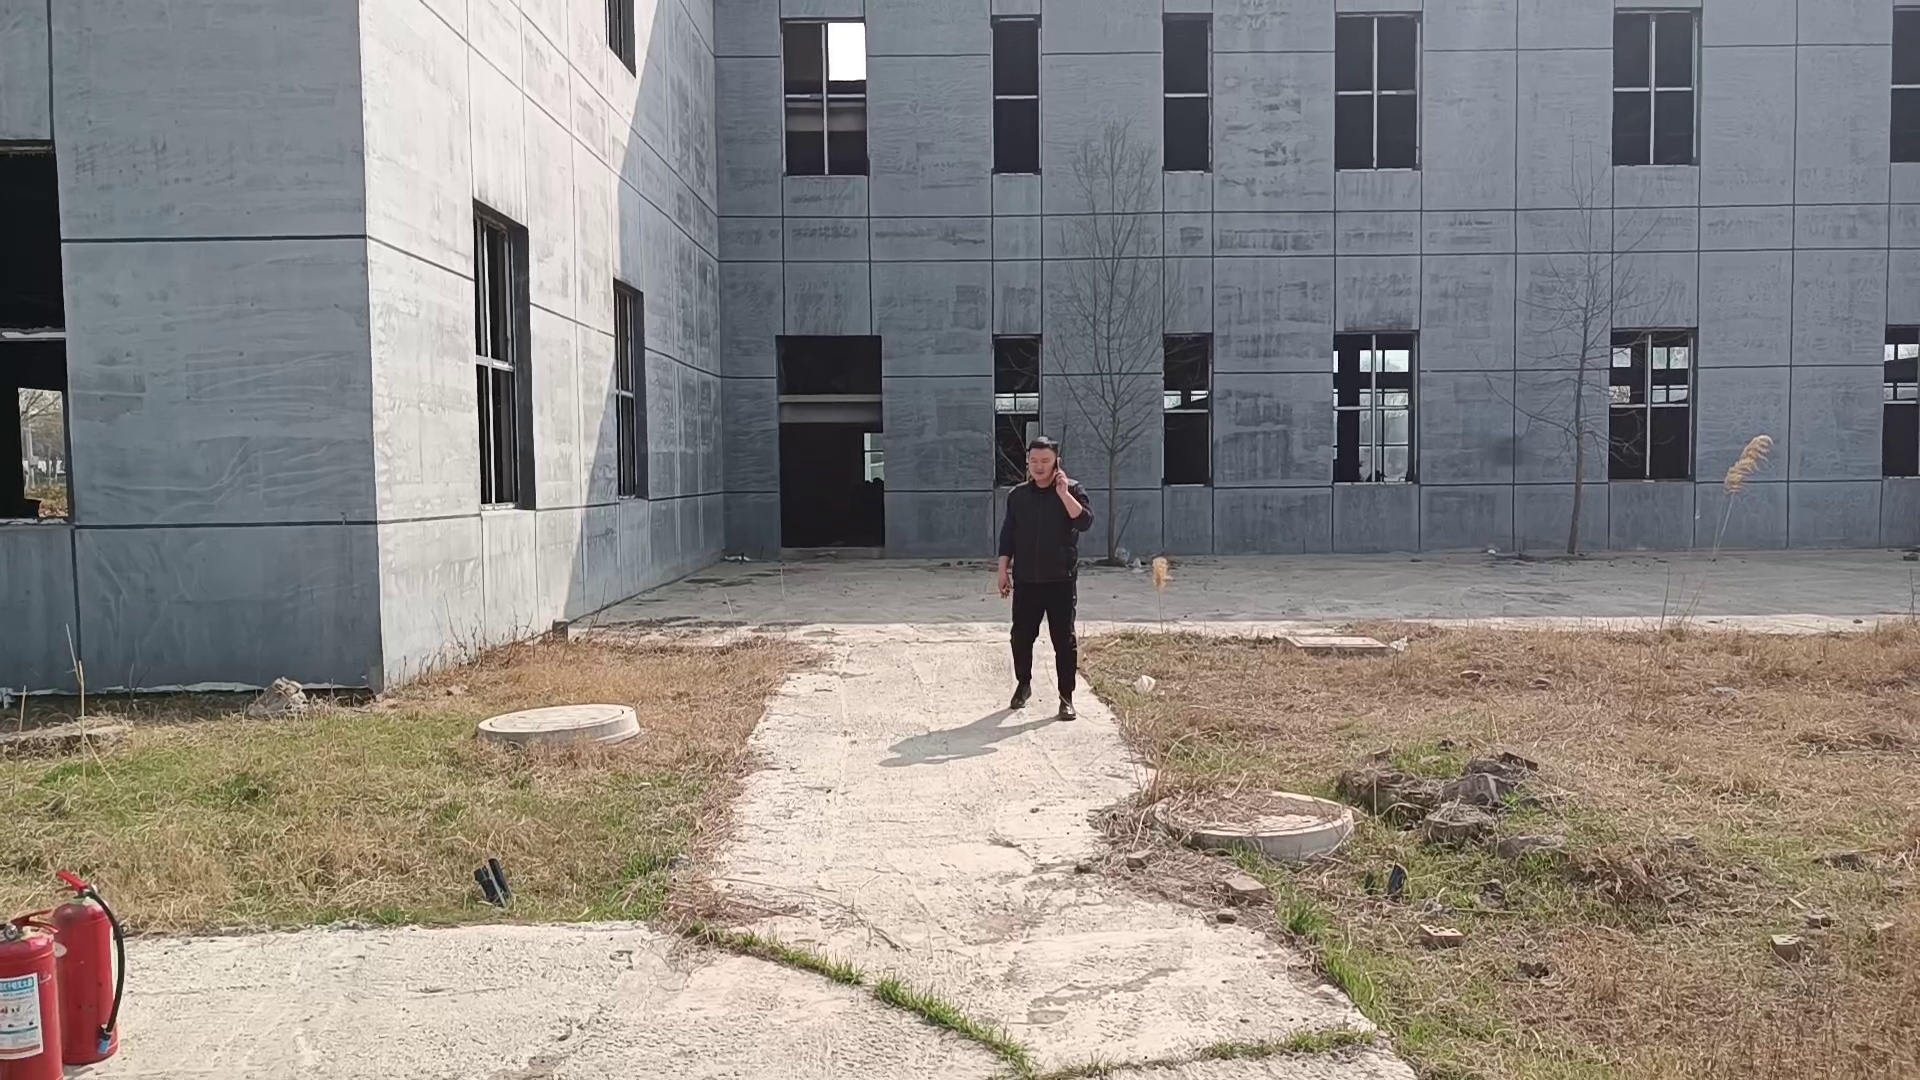phone: (1021, 438, 1068, 493)
